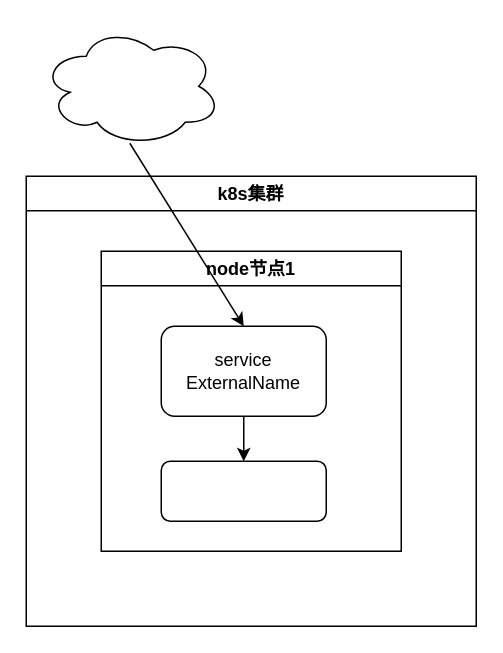
The diagram is 503 pixels wide and 653 high, and some of its shapes have lost their labels. The box of each missing label's shape, as (x1, y1, x2, y2) in pixels:
pod: (160, 460, 326, 521)
外部: (40, 25, 221, 146)
